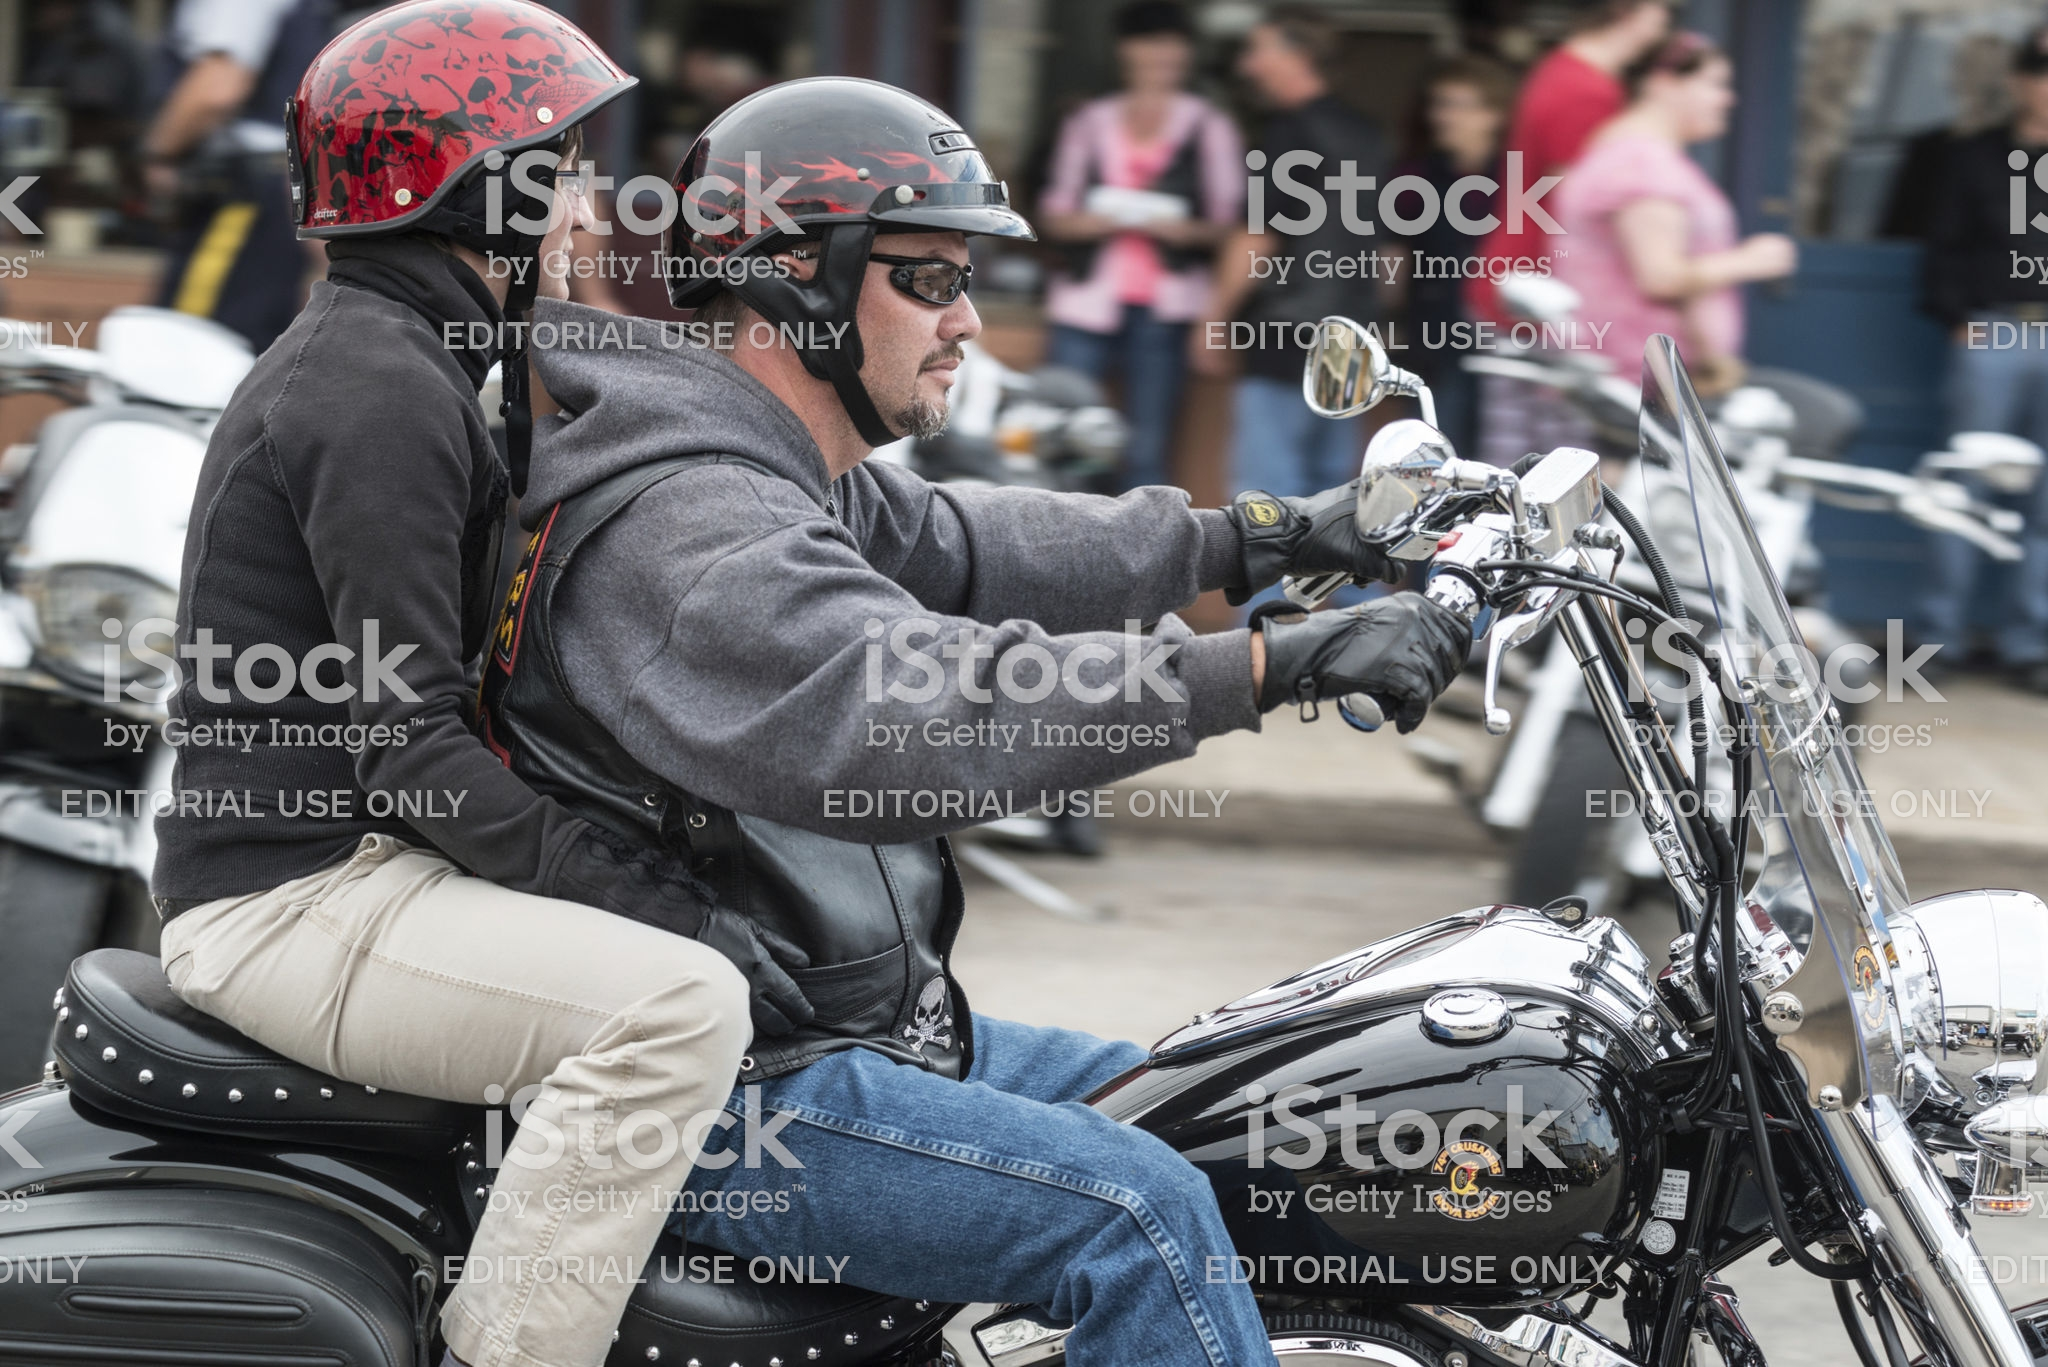helmet: (659, 53, 1069, 305), (250, 12, 640, 243)
